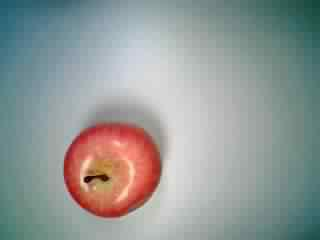apple: (59, 121, 164, 225)
